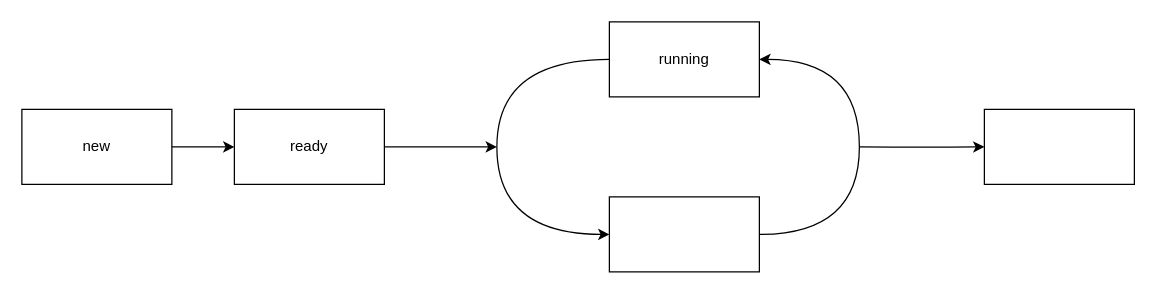
Image size: 1156x294. Some labels were removed from this diagram. Here are the shapes that lost their labels. From the top down, the box of each, then its label:
(983, 108, 1134, 184): terminated
(608, 196, 759, 272): wating
